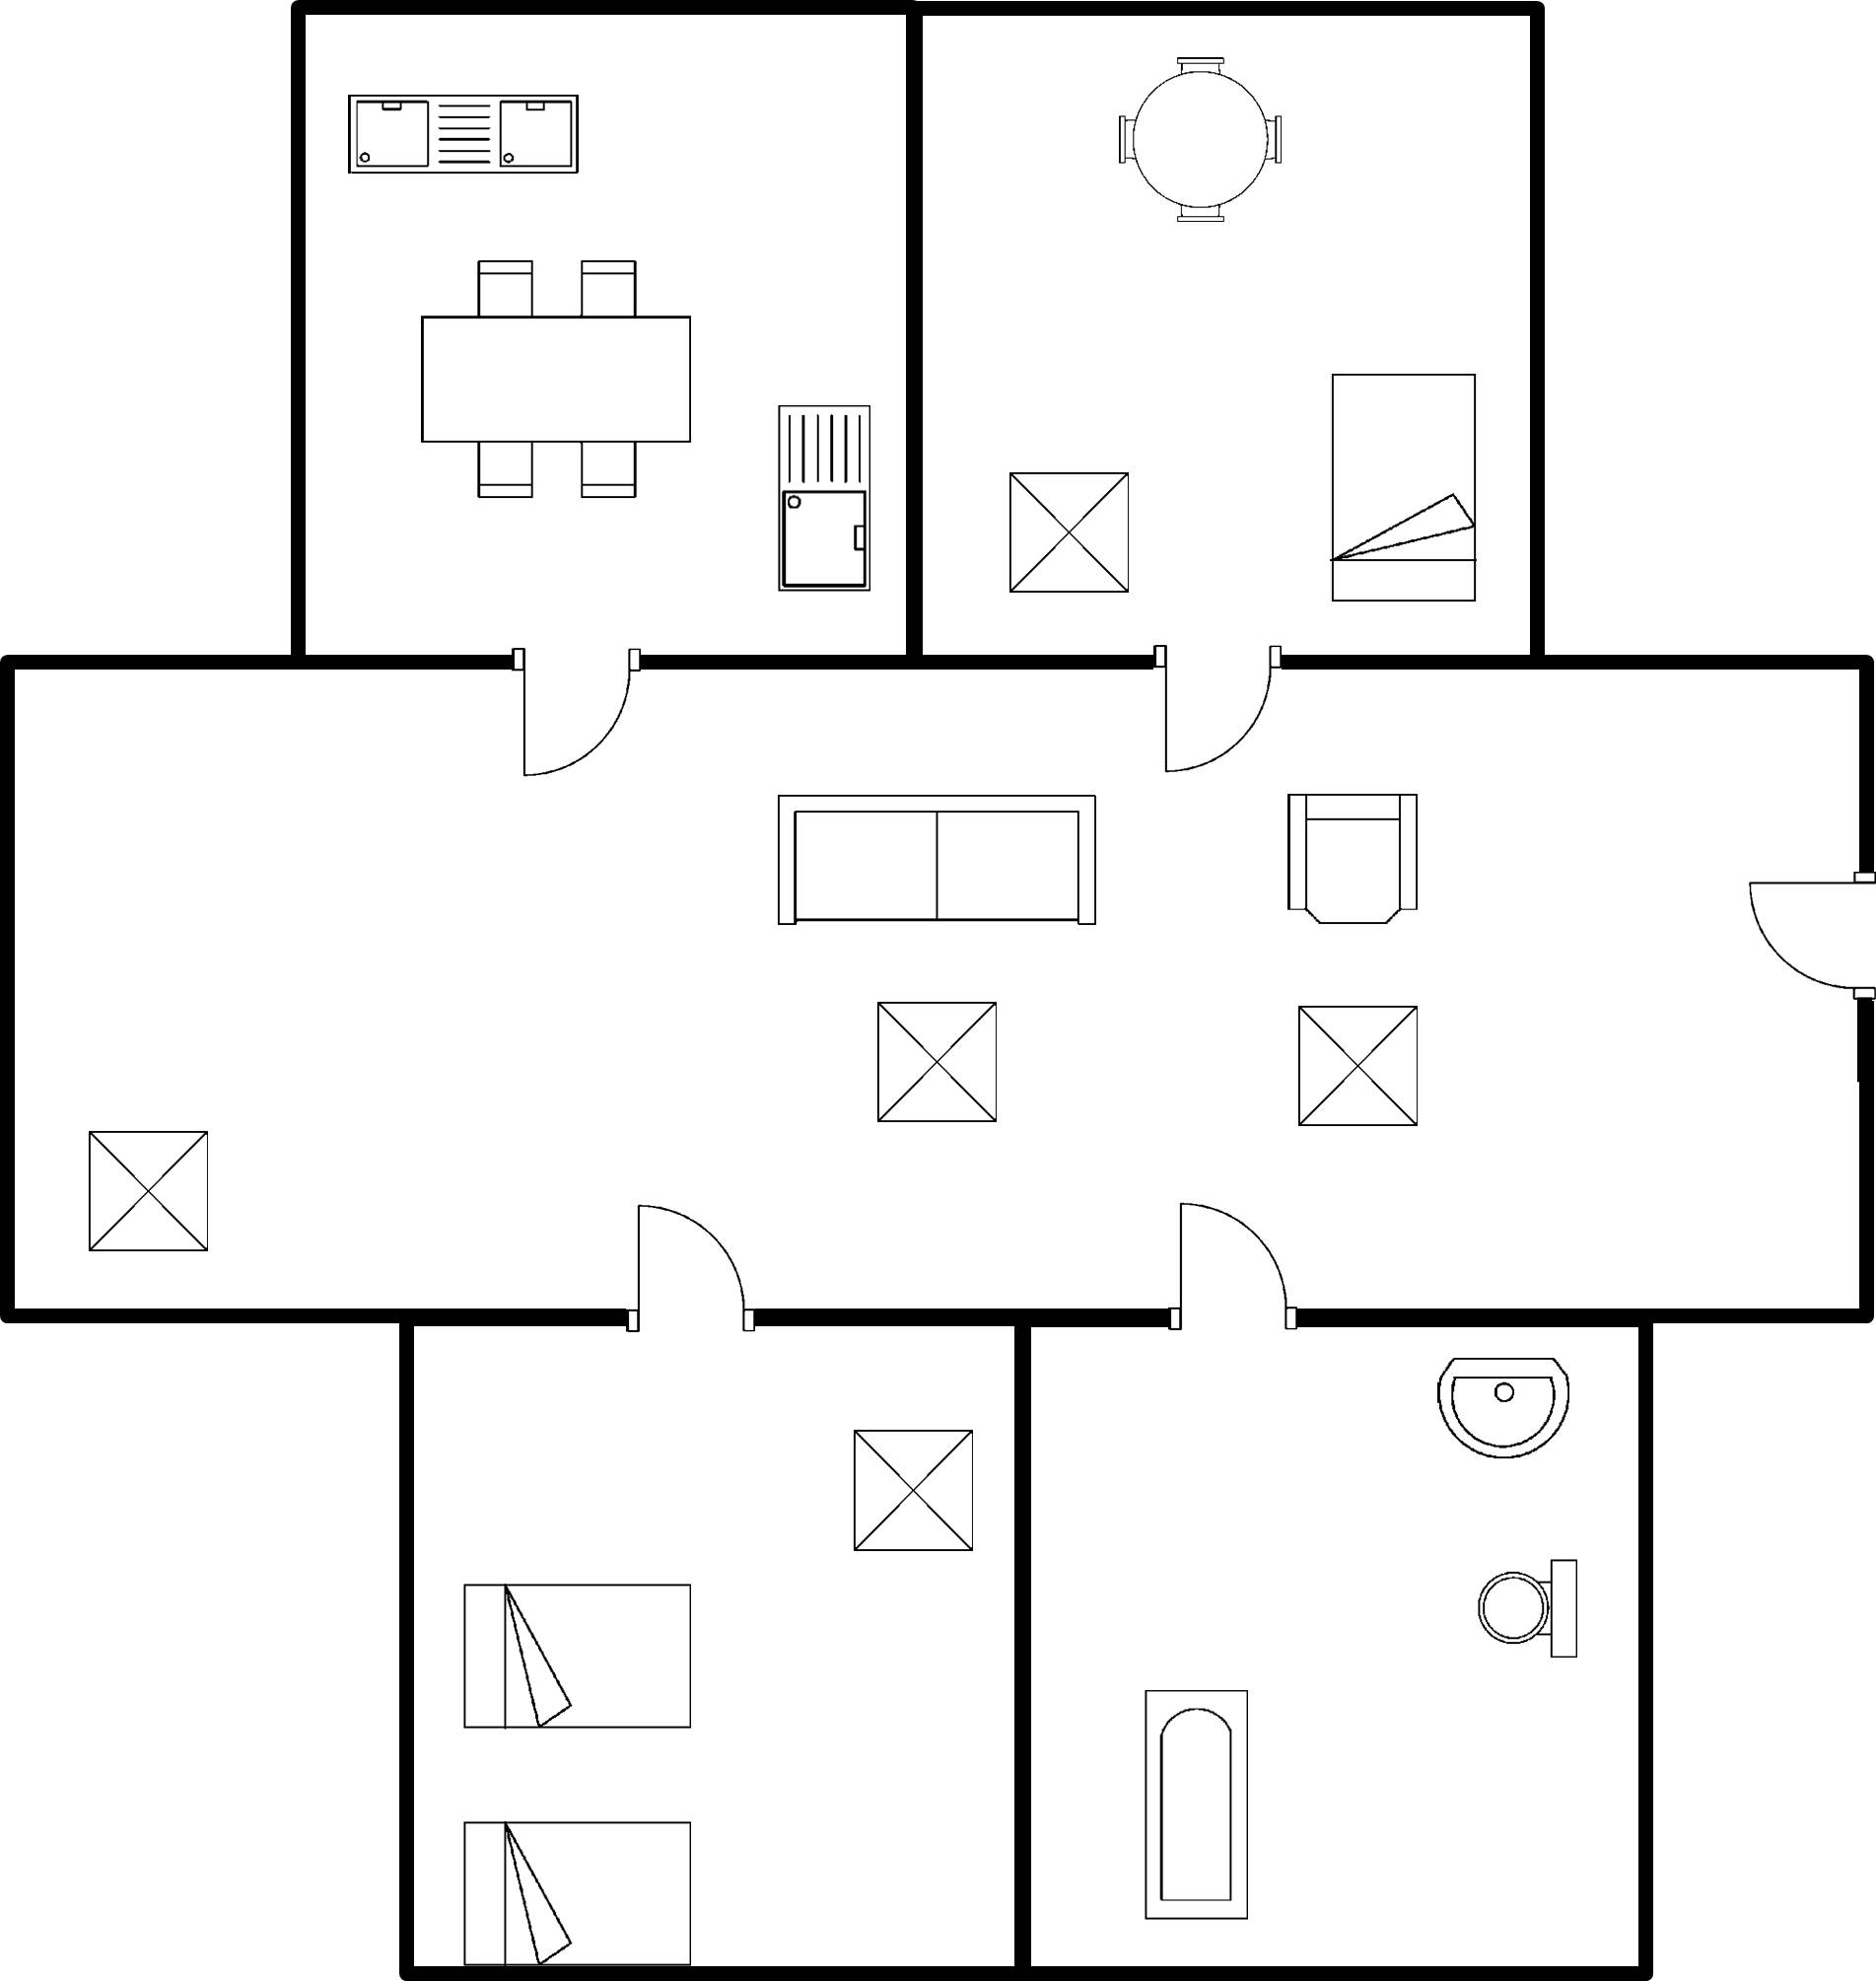armchair: (1264, 773, 1439, 944)
bed: (453, 1570, 705, 1747), (444, 1811, 705, 1981), (1316, 363, 1488, 618)
coffee_table: (840, 1405, 995, 1566), (1281, 994, 1439, 1145), (862, 986, 1012, 1145), (991, 457, 1144, 607), (71, 1121, 226, 1266)
dining_table: (405, 248, 711, 518)
large_sink: (1461, 1546, 1590, 1676)
large_sofa: (763, 783, 1109, 948)
round_table: (1097, 40, 1292, 236)
sink: (765, 394, 884, 610)
small_sink: (1421, 1340, 1580, 1473)
tub: (1123, 1678, 1268, 1940)
twin_sink: (337, 77, 602, 189)
